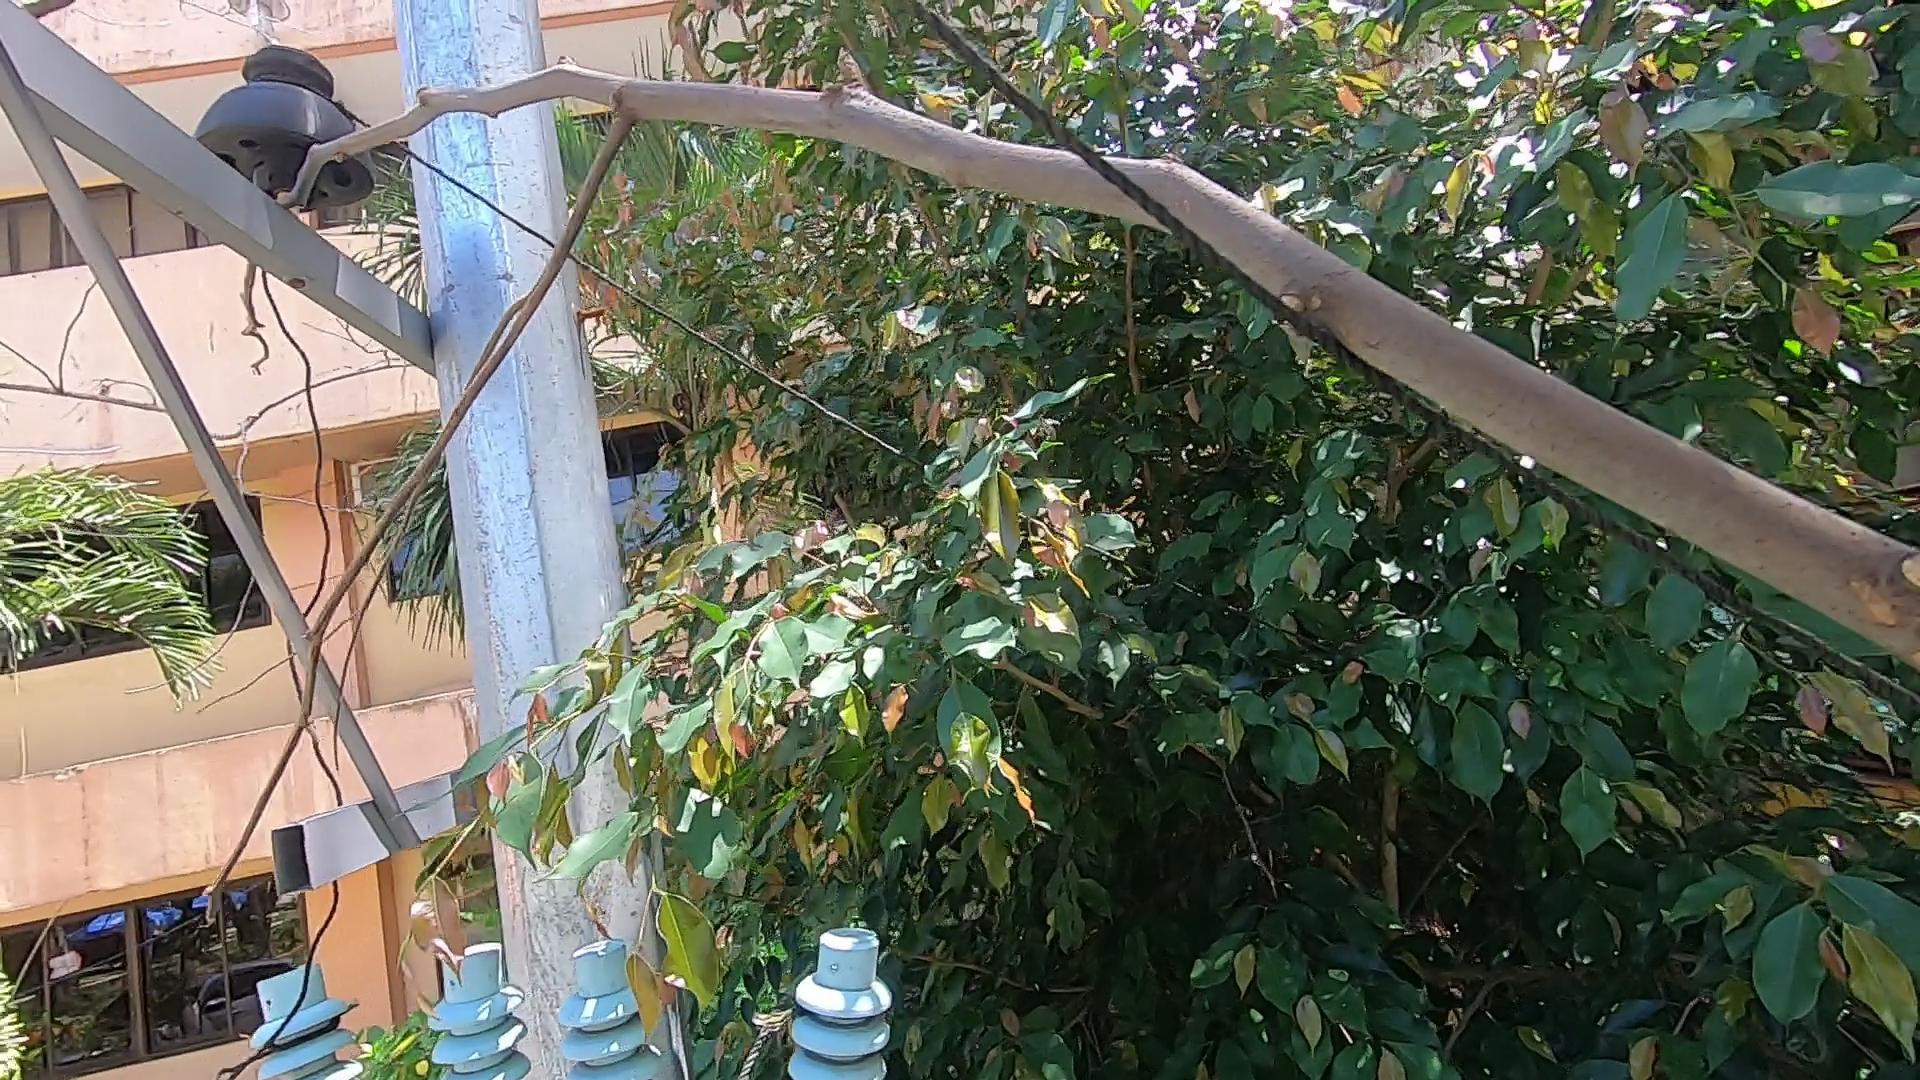branch with leaves: (451, 645, 770, 1073)
tree branch: (24, 28, 1643, 740)
